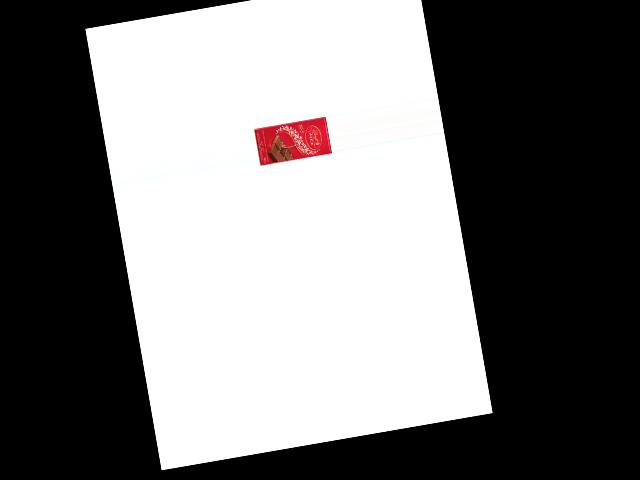chocolate: (254, 115, 332, 169)
